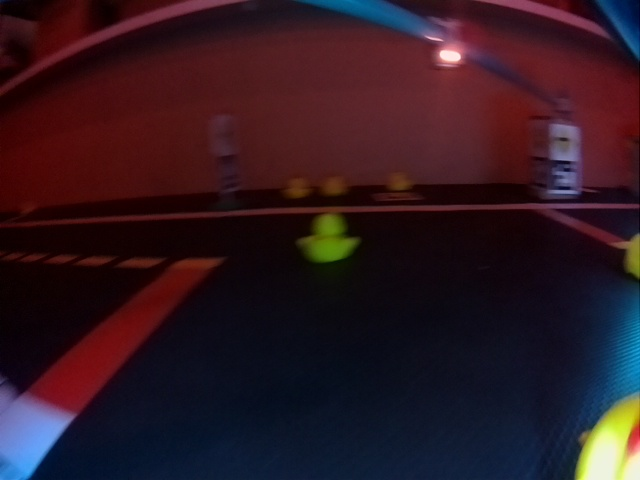Duckie: (576, 395, 638, 478), (298, 213, 355, 263), (627, 233, 639, 277), (286, 178, 306, 199), (323, 176, 345, 195), (390, 174, 413, 191)
Intersection sign: (553, 128, 577, 157)
QR code: (552, 163, 580, 194), (530, 158, 548, 190)
Traffic light: (430, 17, 465, 68)
